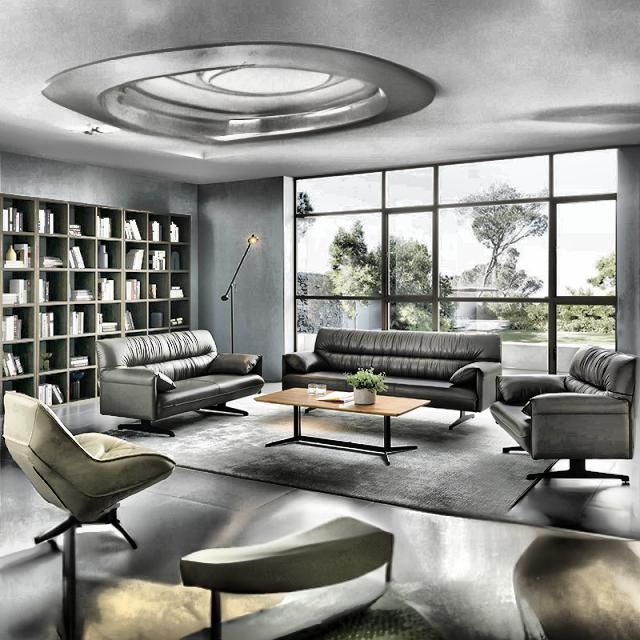sofa: (281, 326, 502, 429), (94, 328, 264, 437)
